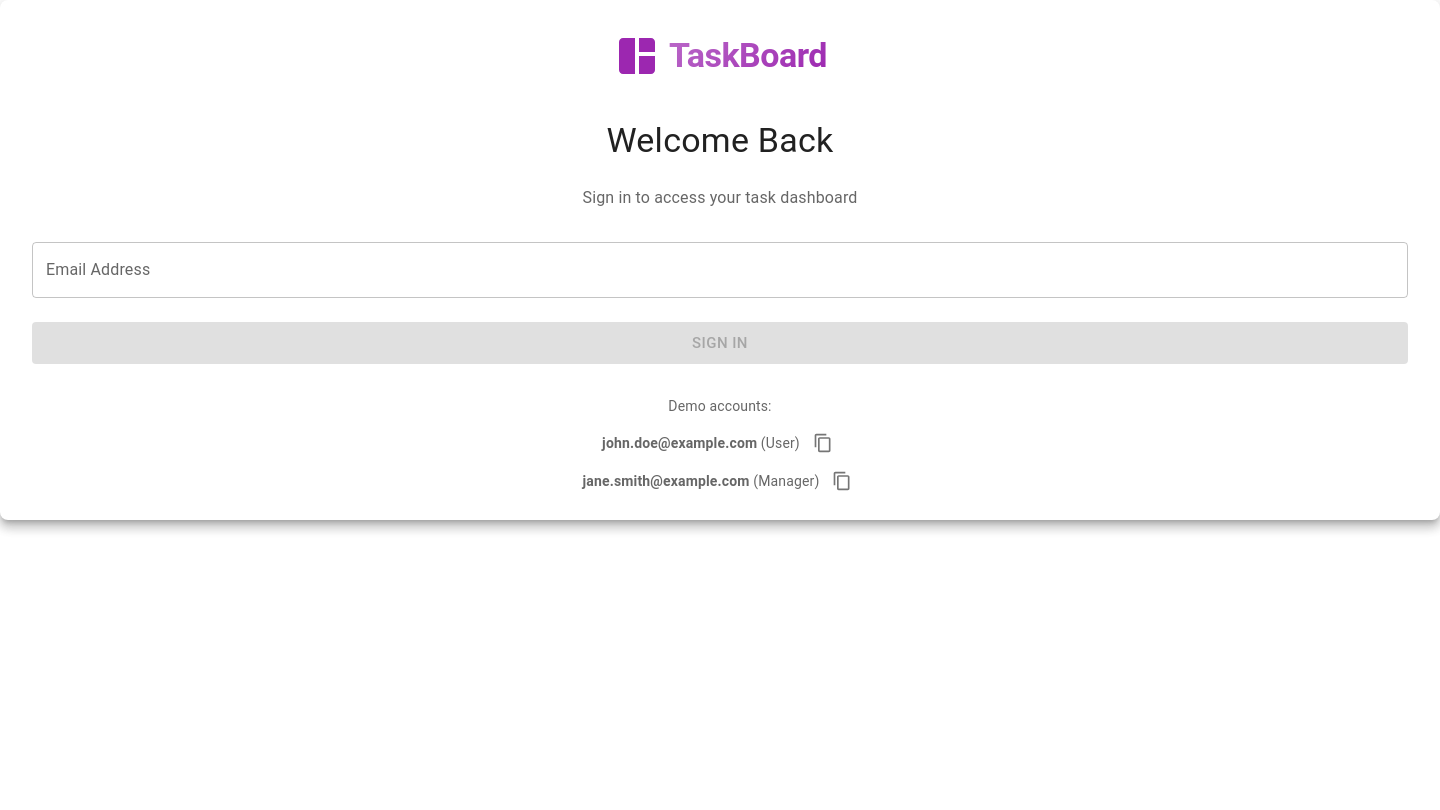
Scenario: LoginForm › copies demo email to input when copy button is clicked
This screenshot has width=1440, height=810.
// Click first copy button (john.doe@example.com)
Click the button named "Copy email" next to "(User)".
click(823, 443)  # box [808,428,838,458]
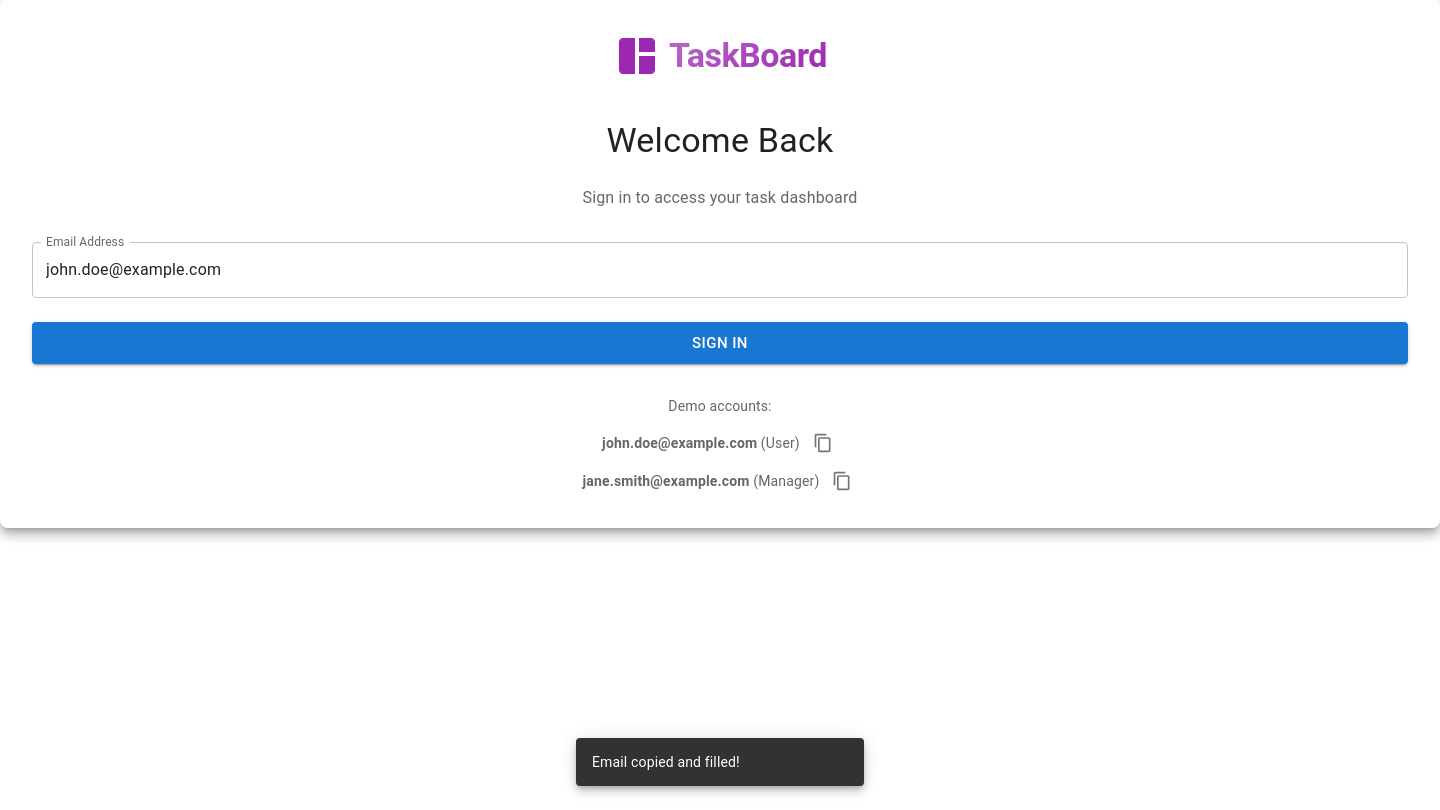
expect the field labelled "Email Address" holds "john.doe@example.com": met, box [32,242,1408,298]
// Click second copy button (jane.smith@example.com)
Click the button named "Copy email" next to "(Manager)".
click(842, 481)  # box [827,466,857,496]
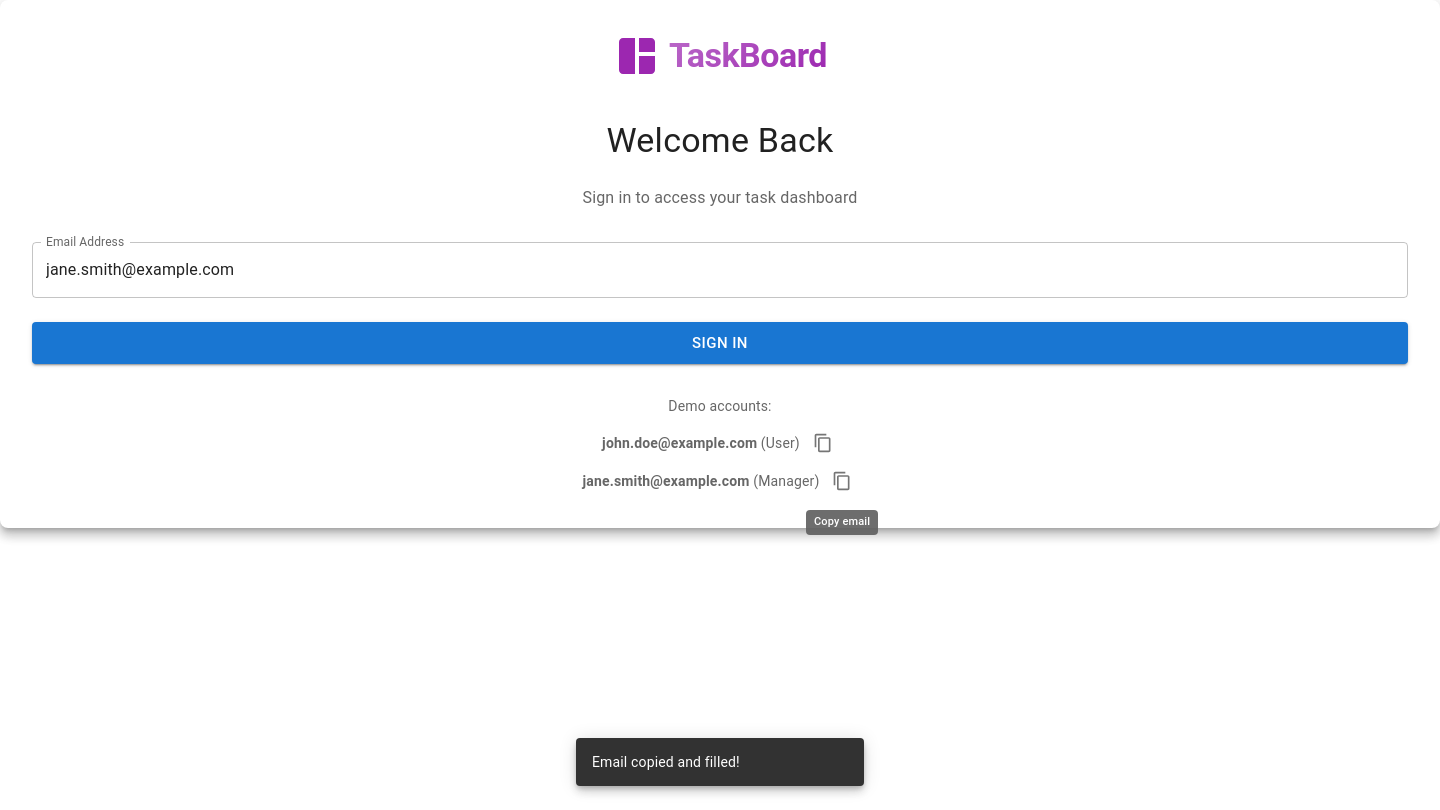
expect the field labelled "Email Address" holds "jane.smith@example.com": met, box [32,242,1408,298]
